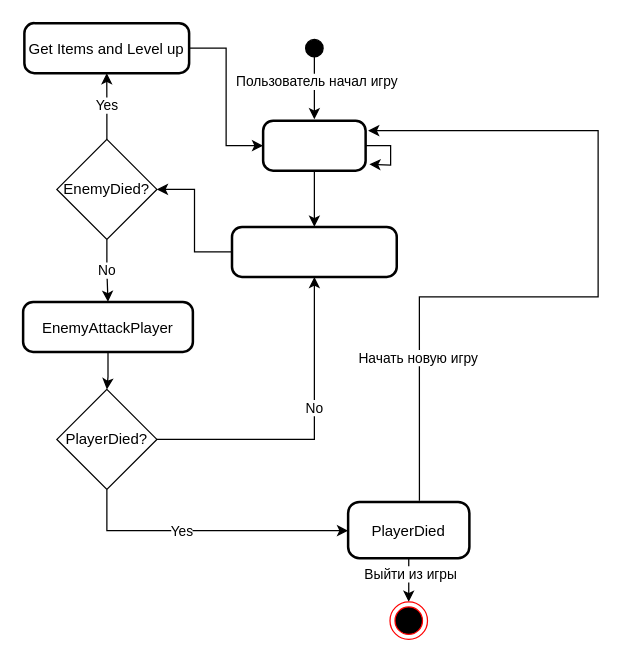
This 630x661 diagram has some shape labels left out. Each missing label, with the box of its shape:
PlayerAttackEnemy: (230, 225, 397, 278)
PlayerWalking: (261, 119, 366, 171)
